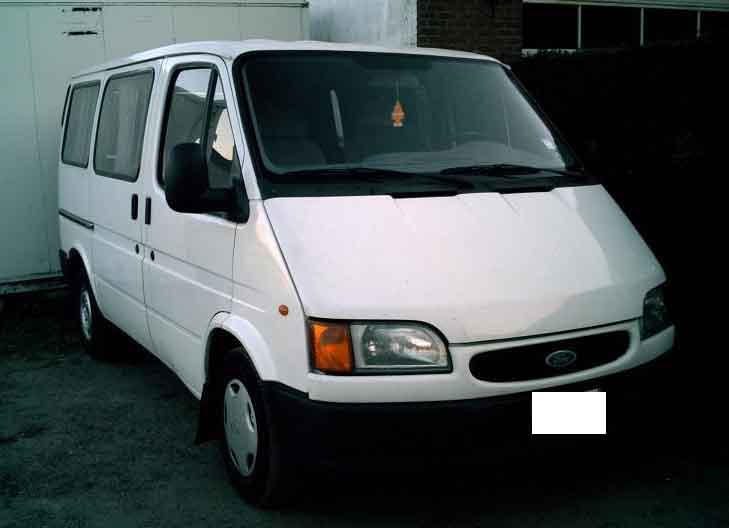van: (55, 36, 679, 508)
